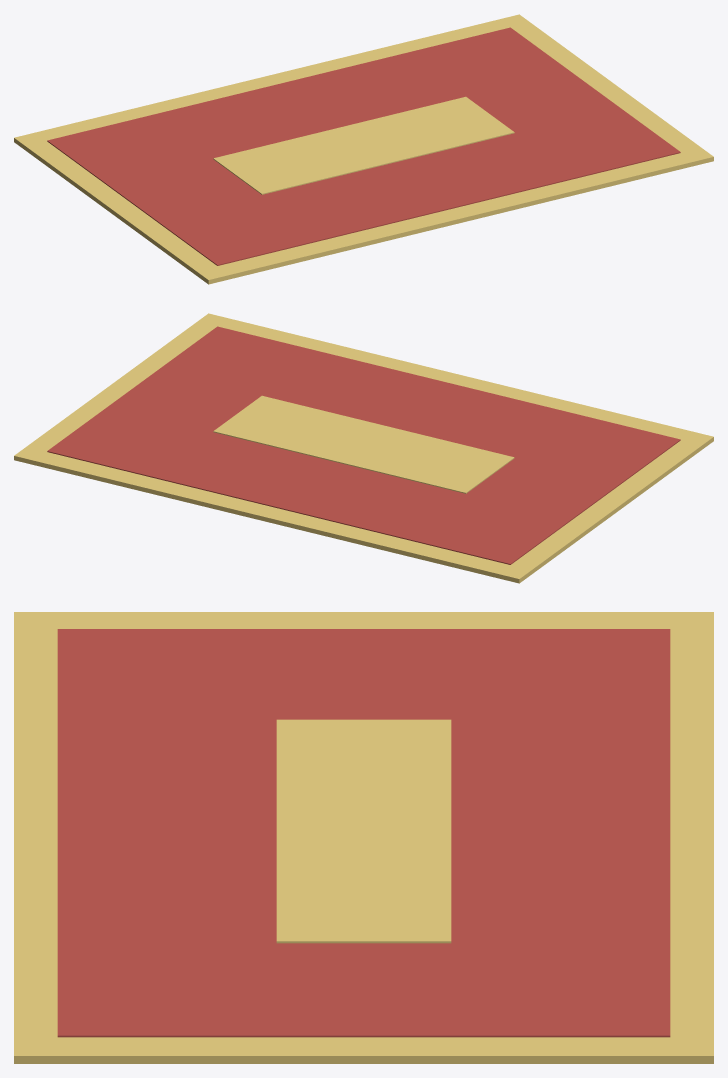
Rendered from rug_red.glb.
3 views of the same model, one above another, from view 1: azimuth 30°, elevation 25°; view 2: azimuth 150°, elevation 25°; view 3: azimuth 270°, elevation 25° (orthographic). The views are drawn at different scales.
Parts seen in each view (by area): view 1: rug_red; view 2: rug_red; view 3: rug_red.
Boxes of the visible parts, left/top/right/bottom form: rug_red: left=14, top=14, right=713, bottom=284; rug_red: left=14, top=313, right=713, bottom=583; rug_red: left=14, top=612, right=713, bottom=1063.
Bounding box in the file's own units: 2.4 × 0.0299 × 1.6.
